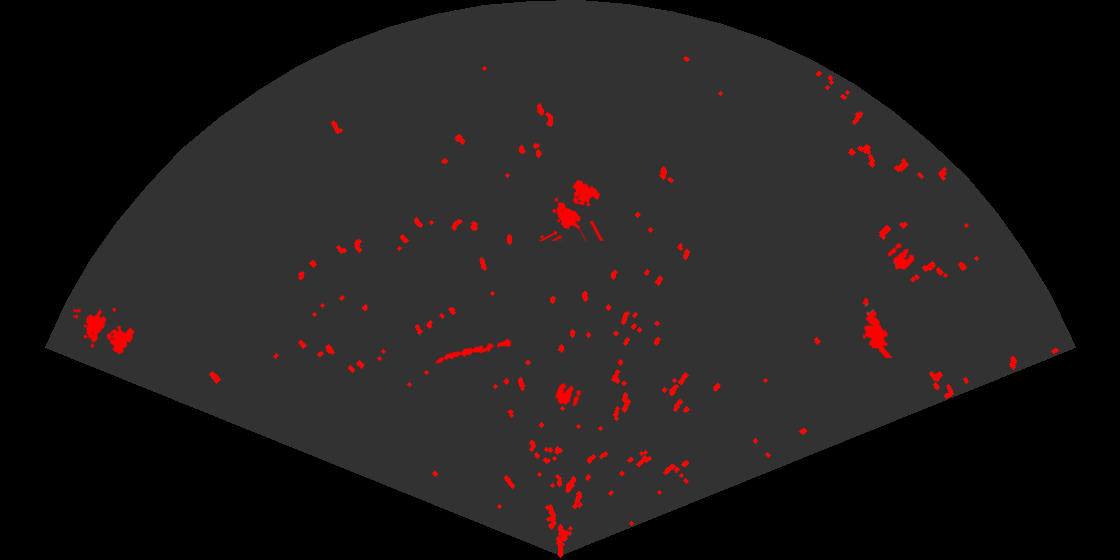ball: (886, 242, 916, 272), (554, 381, 583, 408)
cage: (537, 178, 605, 241), (73, 308, 136, 356)
chain: (433, 337, 513, 365)
frogman: (861, 296, 894, 358)
